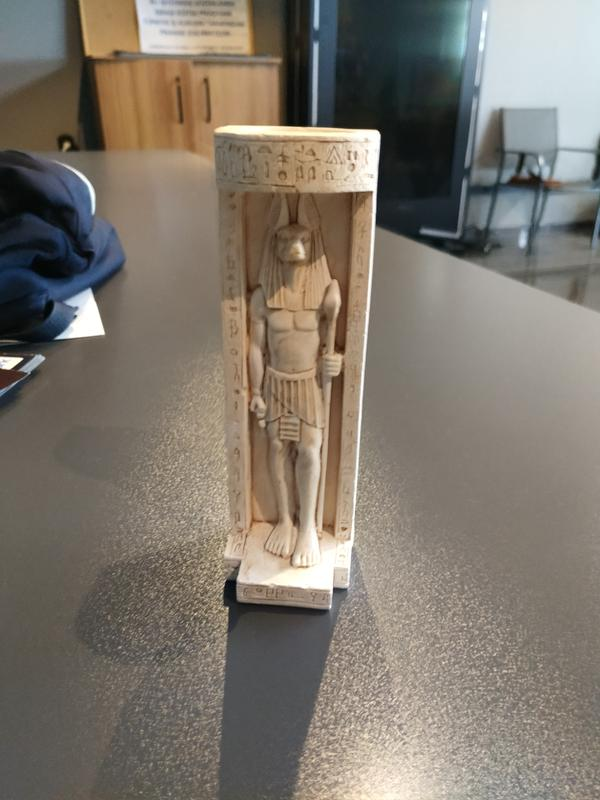heykel: (203, 119, 388, 621)
